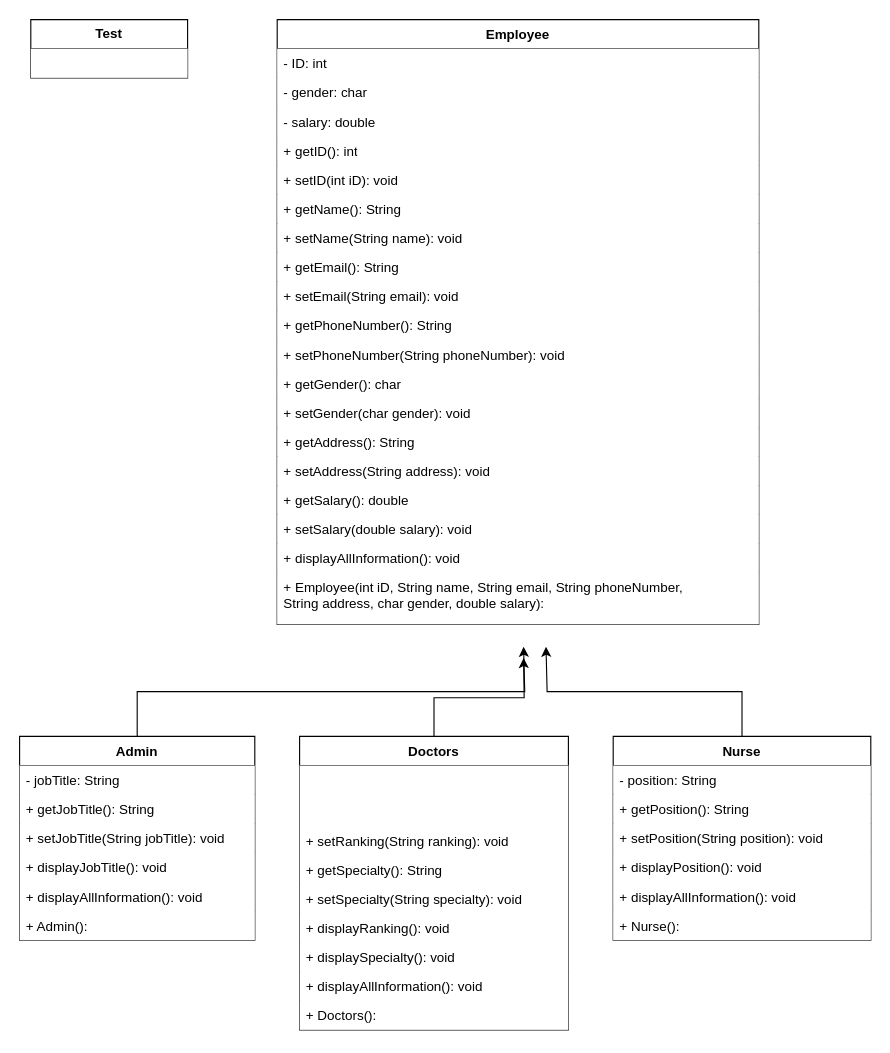
Some shapes in this 890 by 1053 pixel diagram are drawn without their labels. Here are the shapes that lost their labels. From the top down, the centre of each, then its label:
At [108,62]: "+ main()".
At [433,795]: "- rank: String - specialty: String + getRanking(): String".
